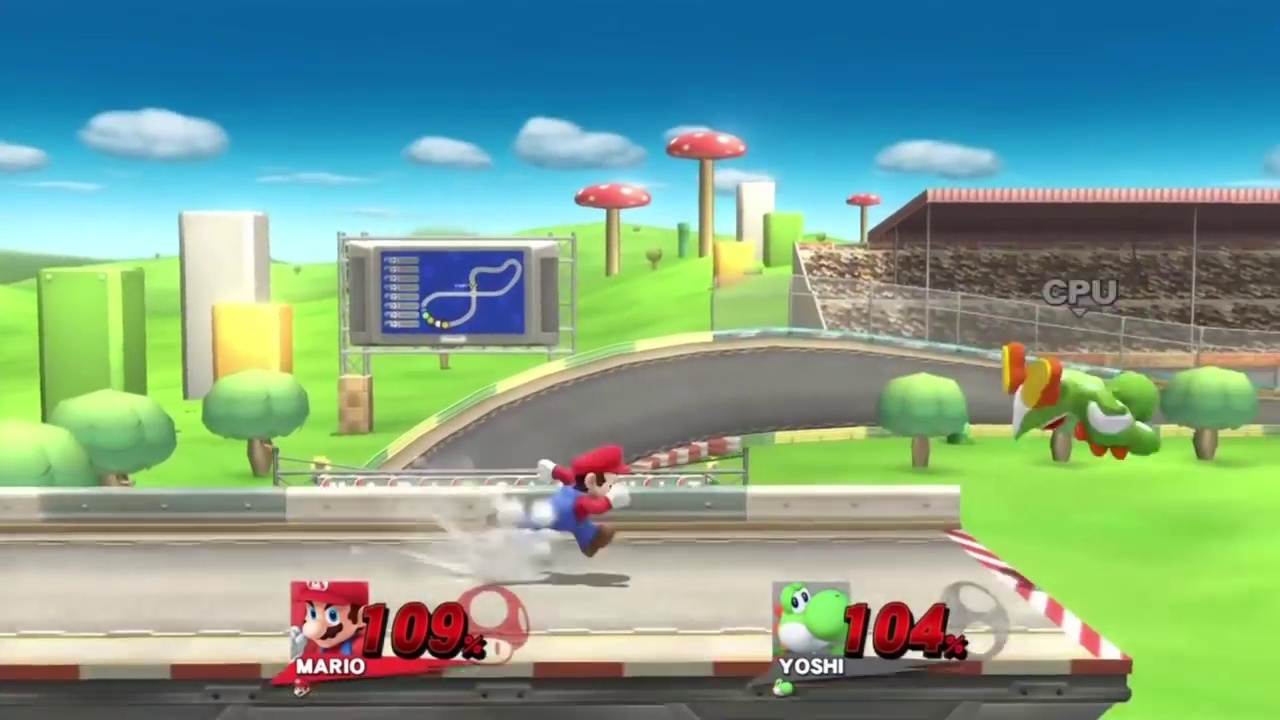Mario: (486, 445, 632, 559)
